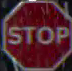Stop: (1, 0, 71, 70)
